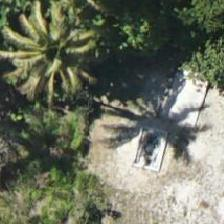coconut_tree: (3, 0, 93, 90)
